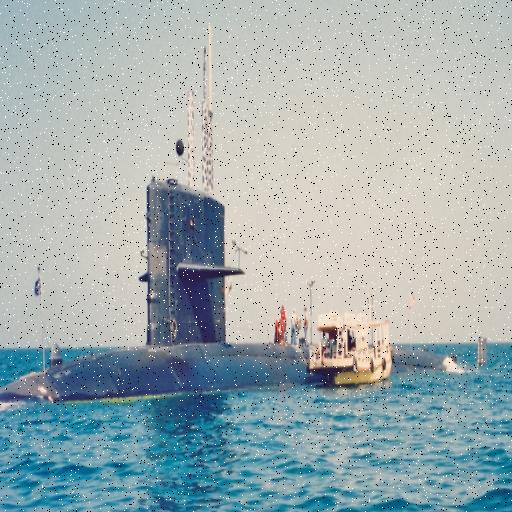submarine: (1, 181, 308, 408)
